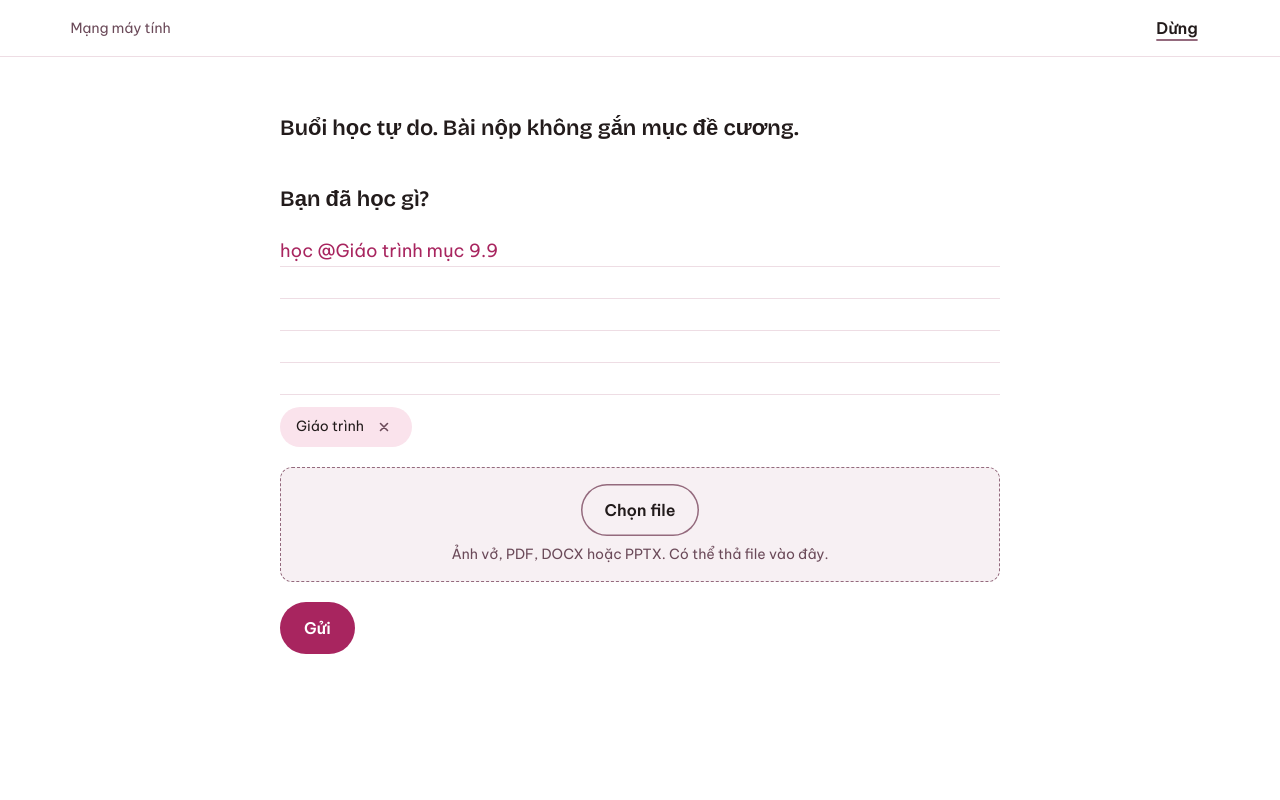
Test: study session on core-api › a refused mention takes the learner back to the form with the sentence kept
This screenshot has width=1280, height=800.
Click the button "Gửi". click: (317, 628)
box: [280,602,355,654]
Wait 50 ms
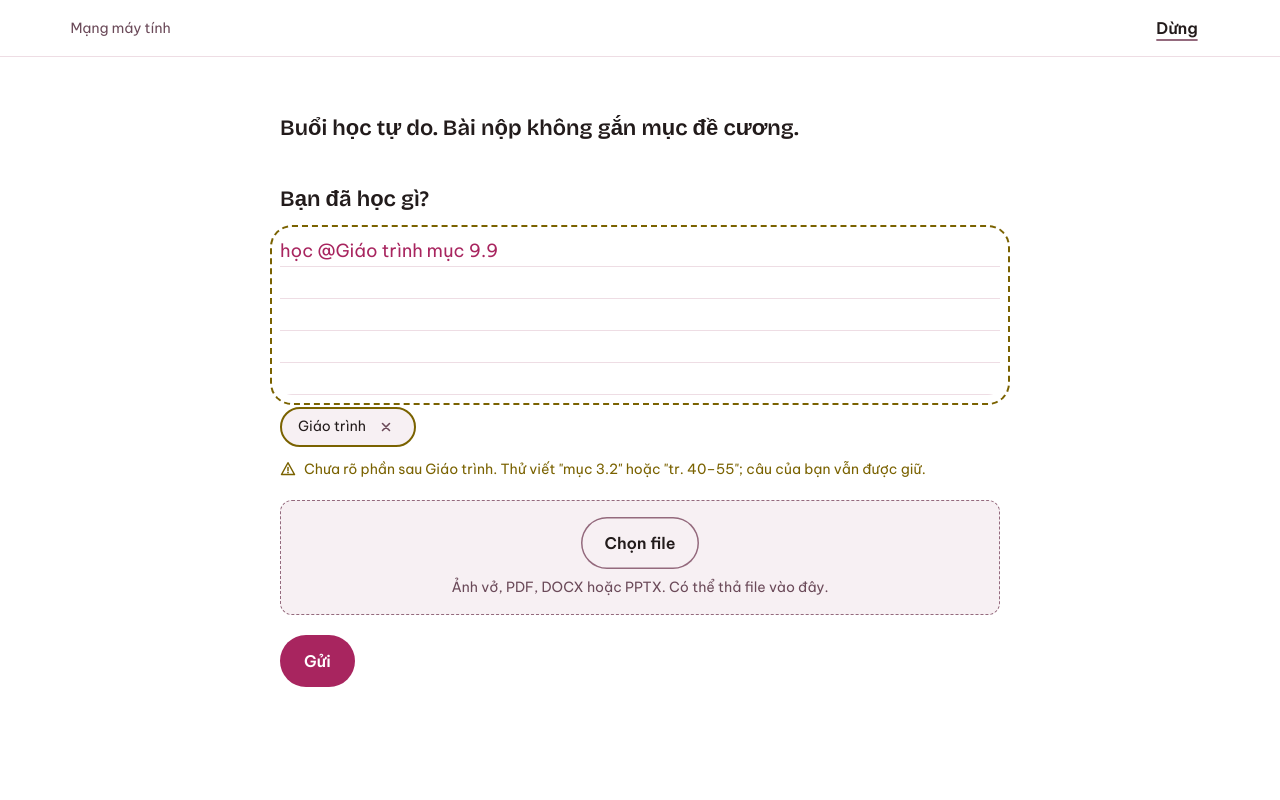
expect the dropdown holds "học @Giáo trình mục 9.9": met, box [280,235,1000,395]
expect the text "Chưa rõ phần sau Giáo trình" is shown: met, box [304,459,926,480]
